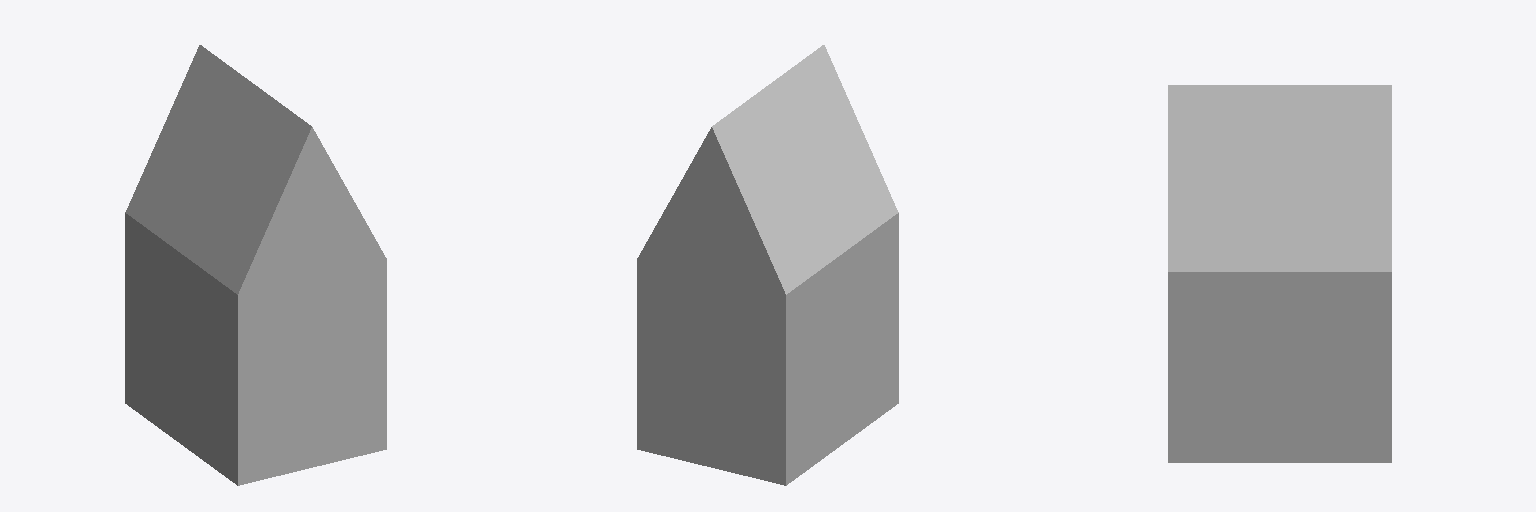
Rendered from Union_01.obj.
The picture shows the model from 3 angles: view 1: azimuth 30°, elevation 25°; view 2: azimuth 150°, elevation 25°; view 3: azimuth 270°, elevation 25°; orthographic projection.
Visible parts, largest first — view 1: union_01_Cube.012; view 2: union_01_Cube.012; view 3: union_01_Cube.012.
Boxes of the visible parts, x1=… form: union_01_Cube.012: x1=125, y1=45, x2=386, y2=485; union_01_Cube.012: x1=637, y1=45, x2=898, y2=485; union_01_Cube.012: x1=1168, y1=85, x2=1391, y2=462.
Size of the model in its own units: 0.2163 by 0.4739 by 0.2832.